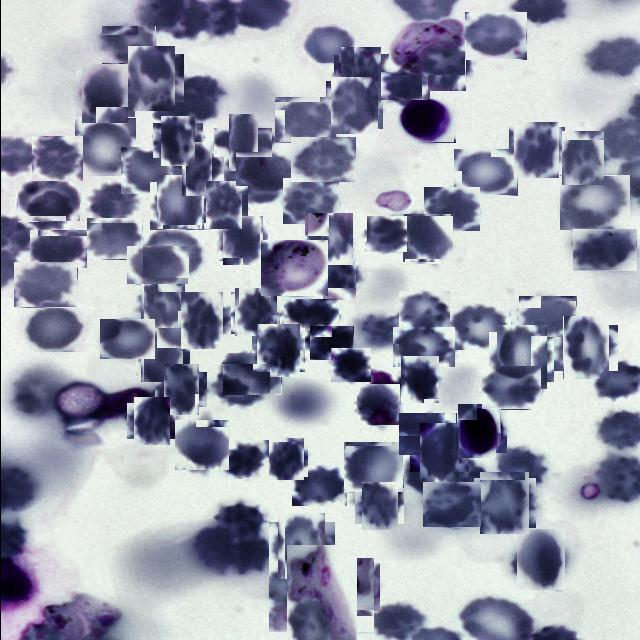leukocyte: (396, 99, 454, 143), (454, 406, 504, 455)
red blood cell: (559, 175, 630, 231), (74, 118, 135, 176), (492, 328, 550, 386), (272, 518, 330, 574), (122, 49, 178, 106), (476, 475, 532, 531), (142, 229, 205, 278), (512, 532, 567, 588), (152, 178, 208, 233), (343, 442, 403, 493), (453, 149, 517, 196), (464, 12, 526, 60), (23, 304, 85, 352), (448, 302, 510, 350), (558, 320, 612, 375), (13, 262, 77, 308), (290, 137, 355, 182), (17, 176, 80, 222), (274, 97, 336, 143), (78, 67, 131, 120), (324, 560, 376, 613), (174, 419, 227, 471), (327, 79, 380, 131), (422, 482, 481, 528), (572, 229, 636, 271), (510, 124, 561, 176), (481, 366, 541, 410), (392, 327, 455, 368), (282, 178, 338, 224), (221, 353, 281, 395), (137, 279, 187, 329), (176, 296, 226, 346), (398, 413, 456, 456), (423, 187, 479, 231), (235, 152, 295, 193), (414, 428, 464, 477), (120, 147, 172, 194), (518, 296, 576, 338), (126, 246, 188, 285), (402, 214, 450, 264), (306, 214, 354, 264), (86, 218, 142, 260), (137, 330, 185, 379), (253, 326, 302, 374), (212, 364, 268, 406), (558, 133, 606, 182), (31, 136, 82, 181), (495, 446, 547, 490), (28, 230, 86, 269), (336, 51, 384, 98), (291, 465, 346, 506), (85, 182, 139, 223), (99, 319, 154, 359), (232, 290, 278, 336), (101, 26, 155, 64), (398, 291, 449, 331), (220, 218, 265, 263), (301, 24, 354, 62), (218, 438, 268, 478), (158, 368, 202, 412), (424, 44, 468, 88), (220, 121, 264, 164), (174, 147, 217, 190), (398, 358, 440, 402), (24, 191, 70, 231), (156, 119, 198, 162), (202, 183, 244, 226), (356, 384, 399, 426), (130, 400, 172, 442), (358, 485, 400, 527), (283, 299, 338, 330), (266, 438, 306, 478), (318, 258, 358, 298), (309, 326, 353, 360), (380, 72, 430, 101), (366, 216, 406, 252), (330, 348, 370, 382)
ring: (277, 554, 365, 640), (390, 17, 464, 75), (260, 240, 327, 296)
